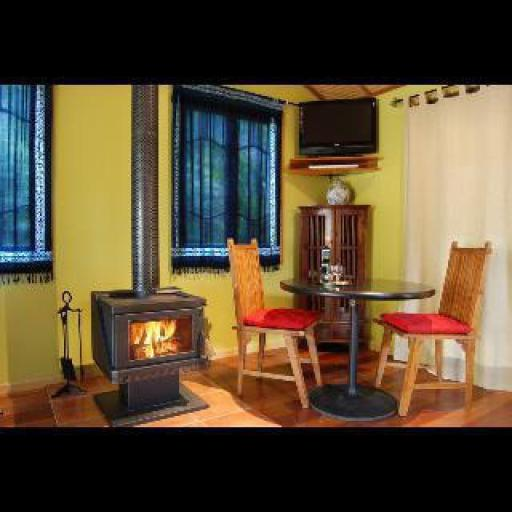smoke: (128, 316, 194, 358)
